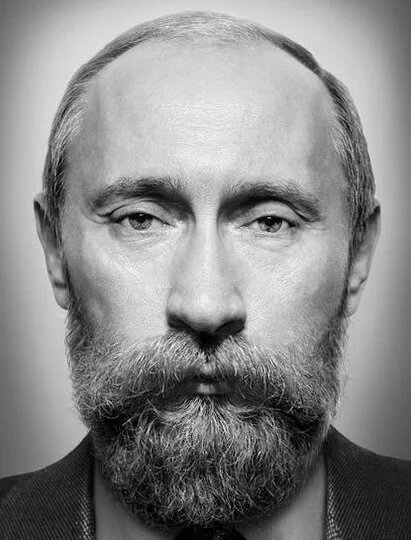beard: (61, 321, 344, 527)
